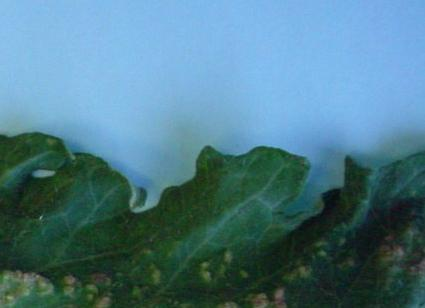Tomato mold leaf: (0, 19, 425, 308)
